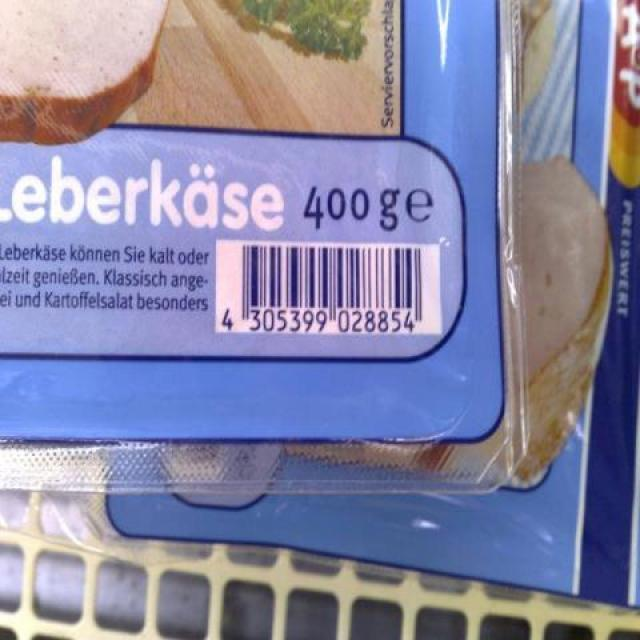Barcode: (217, 238, 439, 334)
